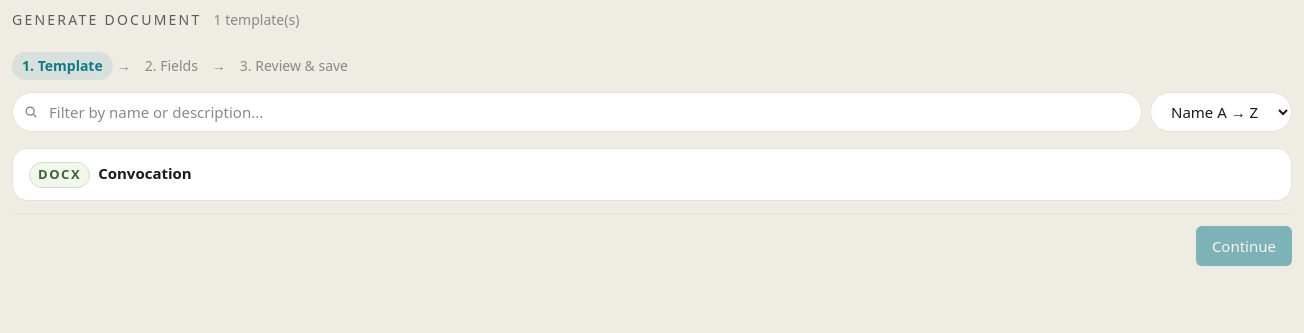
it: GenerateDocumentPanel › shows the missing docx source error returned by the previewDocx flow
Click the button "DOCX Convocation" at (60, 175), box [13,149,1291,200]
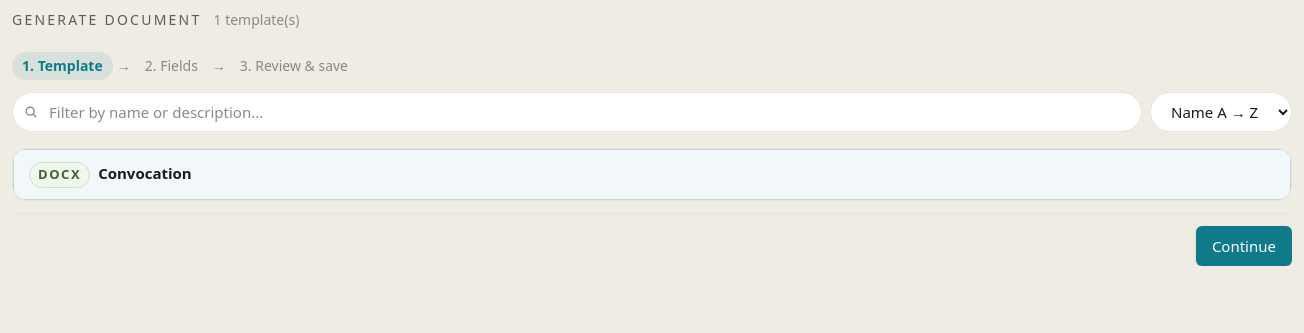
Click the button "Continue" at (1244, 246), box [1196,226,1292,266]
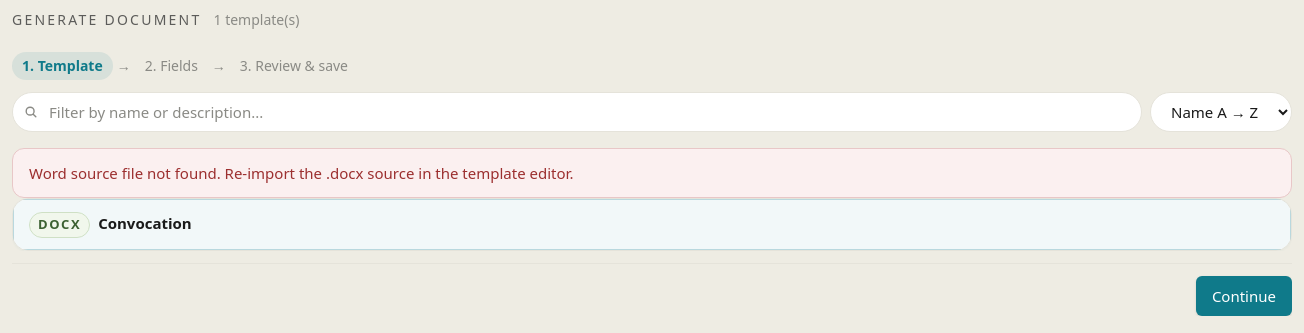
Expected: the text "Word source file not found. Re-import the .docx source in the template editor." is shown, [12,148,1292,198]
